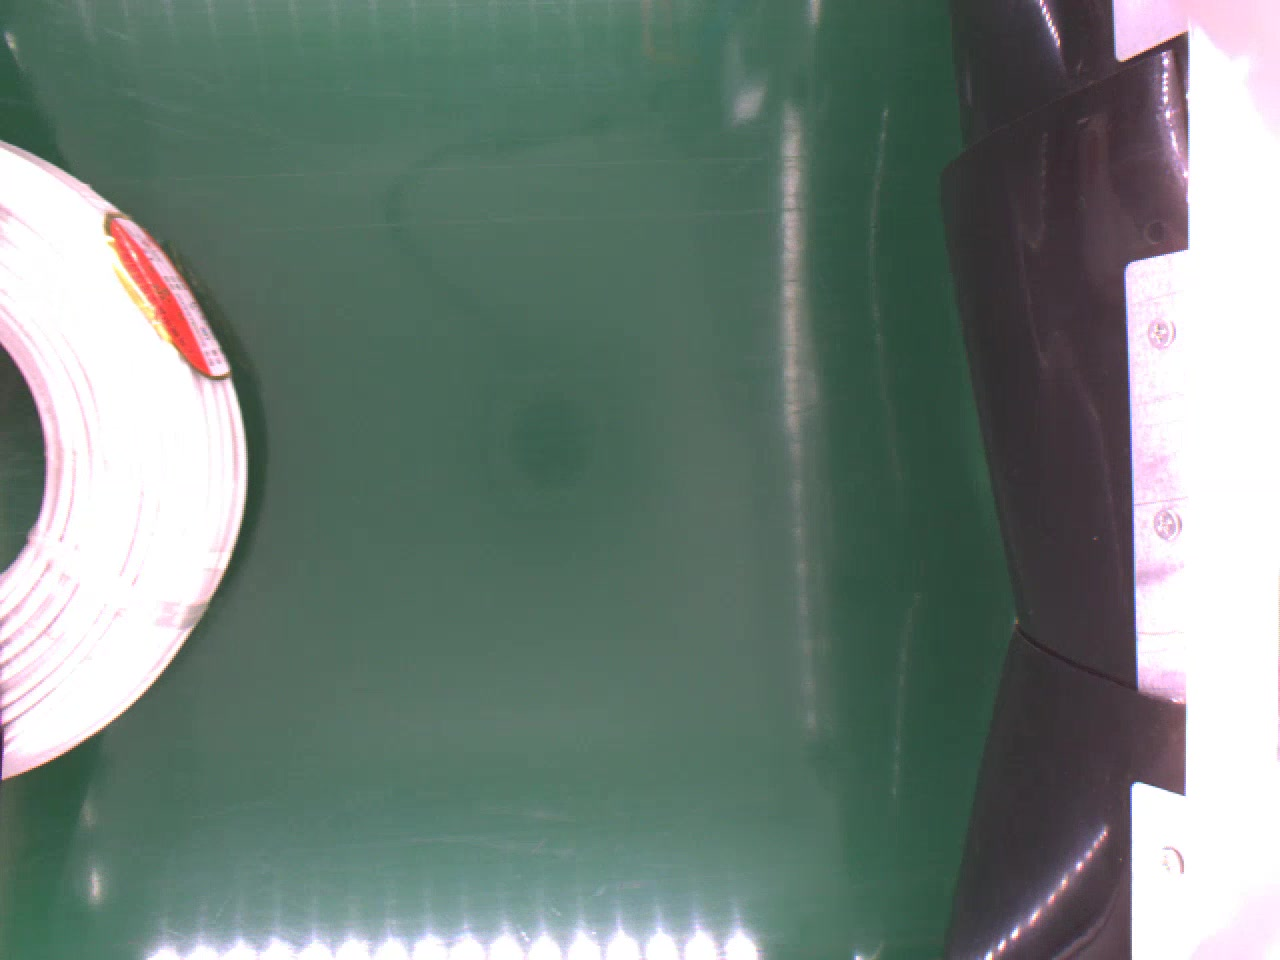white: (0, 131, 255, 785)
